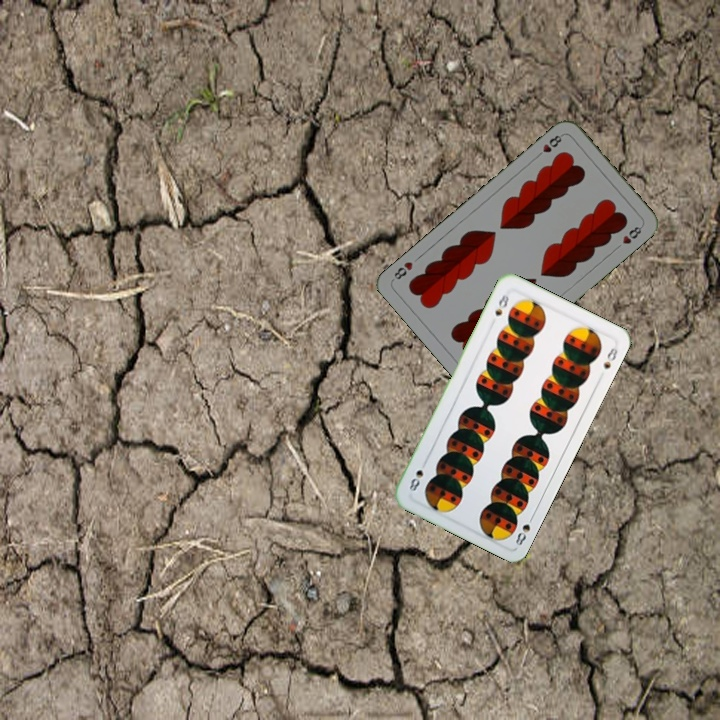H8: (532, 130, 566, 161)
S8: (511, 510, 537, 548), (491, 290, 512, 318)
